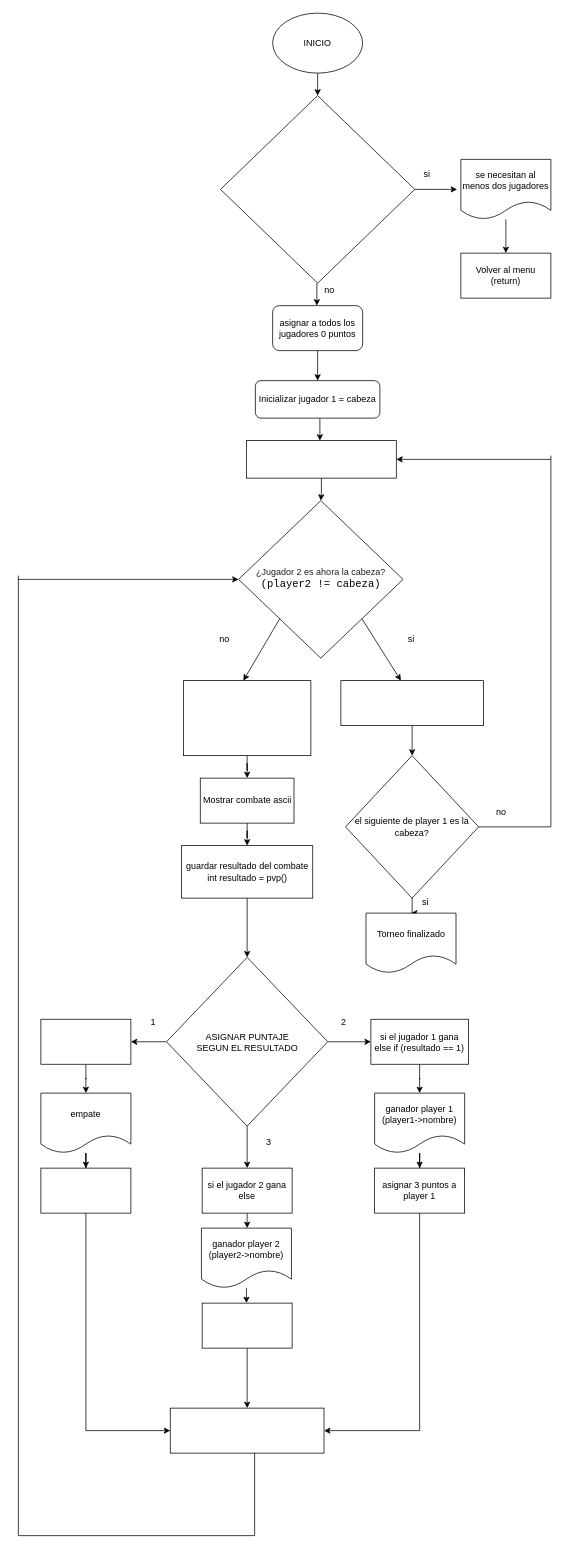
This 570x1550 diagram has some shape labels left out. The shapes that lost their labels are listed below. From the top down, each one's centre as x and y in pixels, then its label:
point (317, 189): La cantidad de jugadores es menor a 2? ( cantidadJugadores() < 2)
point (321, 459): Inicializar jugador 2 = jugador 1 -> siguiente
point (247, 718): guardar las opciones elegidas jugada1 = pedirJugada jugada2 = pedirJugada
point (411, 703): mover a player 1 al nodo siguiente player1 = player1->siguiente
point (85, 1041): si es empate if (resultado == 0)
point (85, 1190): asignar 1 punto a cada player
point (246, 1325): asignar 3 puntos a player 2
point (247, 1430): mover a player 2 al siguiente nodo player2 = player2->siguiente
